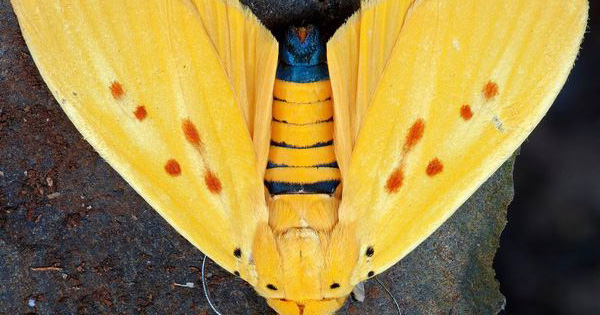Agape chloropyga: (8, 1, 589, 313)
moth: (10, 2, 591, 315)
